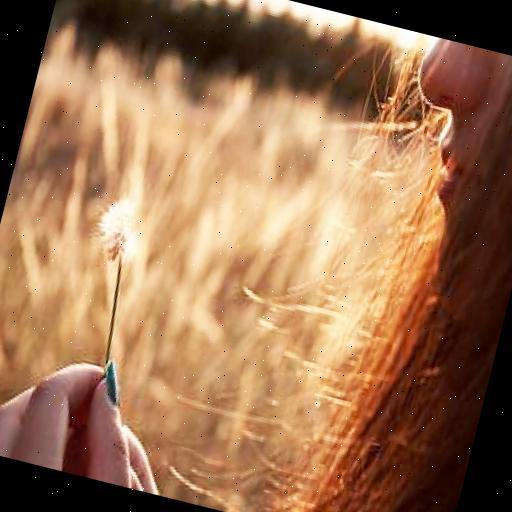dandelion: (91, 196, 153, 268)
